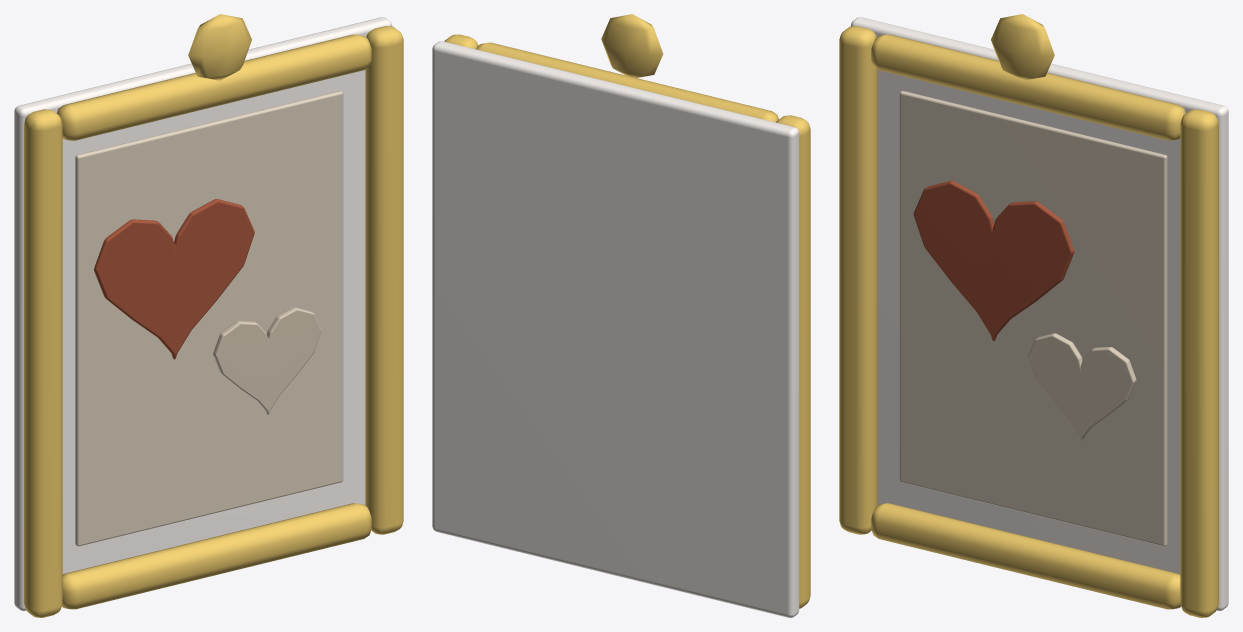
Rendered from picture_frame.glb.
The picture shows the model from 3 angles, left to right: view 1: azimuth 30°, elevation 25°; view 2: azimuth 150°, elevation 25°; view 3: azimuth 330°, elevation 25°; orthographic projection. The views are drawn at different scales.
Visible parts, largest first — view 1: picture_frame; view 2: picture_frame; view 3: picture_frame.
Part boxes in pixels (bbox=[...]): picture_frame: bbox=[14, 14, 403, 617]; picture_frame: bbox=[432, 14, 810, 617]; picture_frame: bbox=[839, 14, 1228, 617].
Size of the model in its own units: 0.7 by 1.01 by 0.095.
